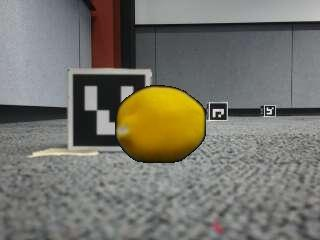lemon: (118, 87, 206, 164)
